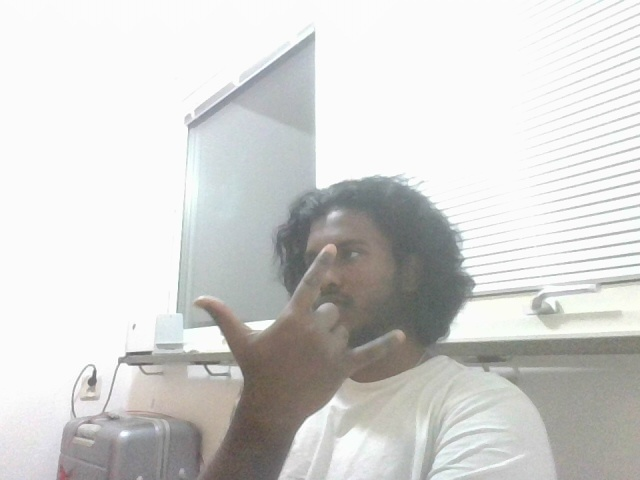I Love You: (202, 224, 406, 419)
